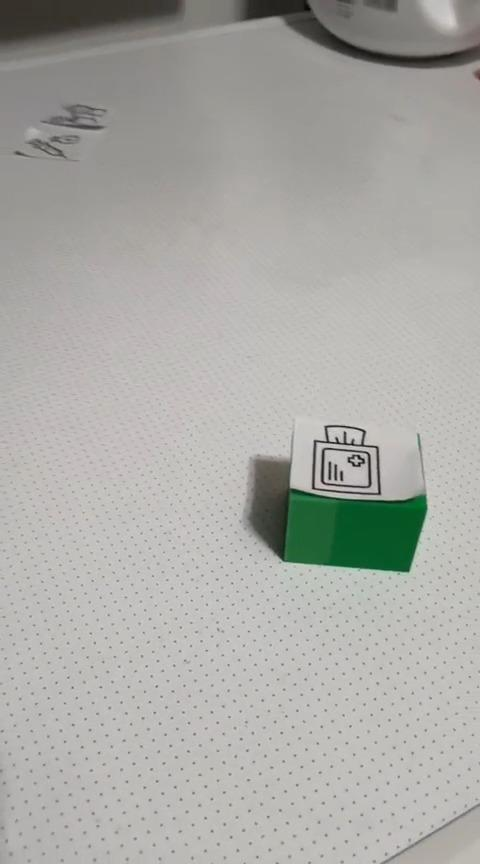Gauze: (281, 415, 428, 573)
